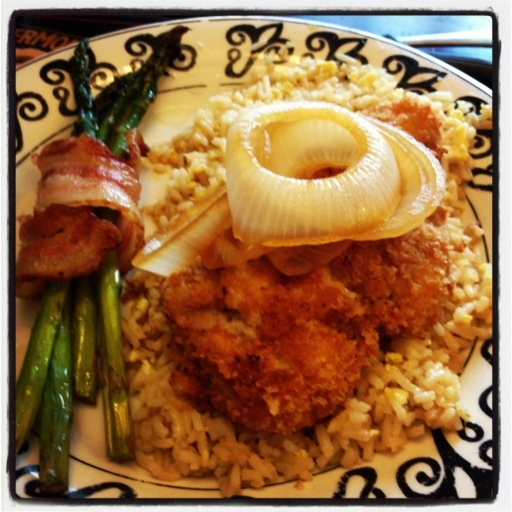background: (12, 20, 394, 398)
